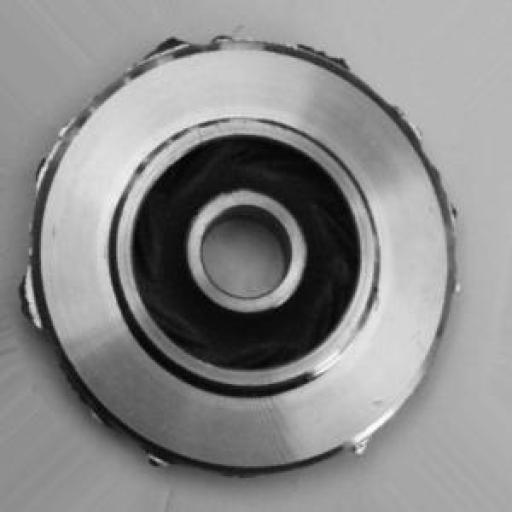defect: (14, 27, 474, 479)
